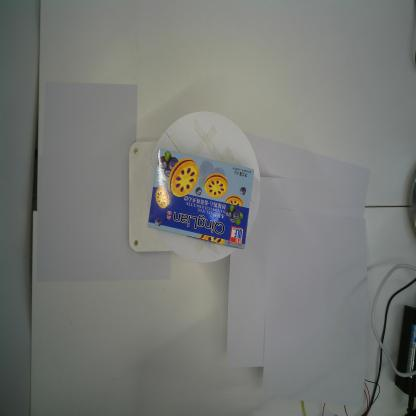Dessert: (146, 148, 254, 250)
